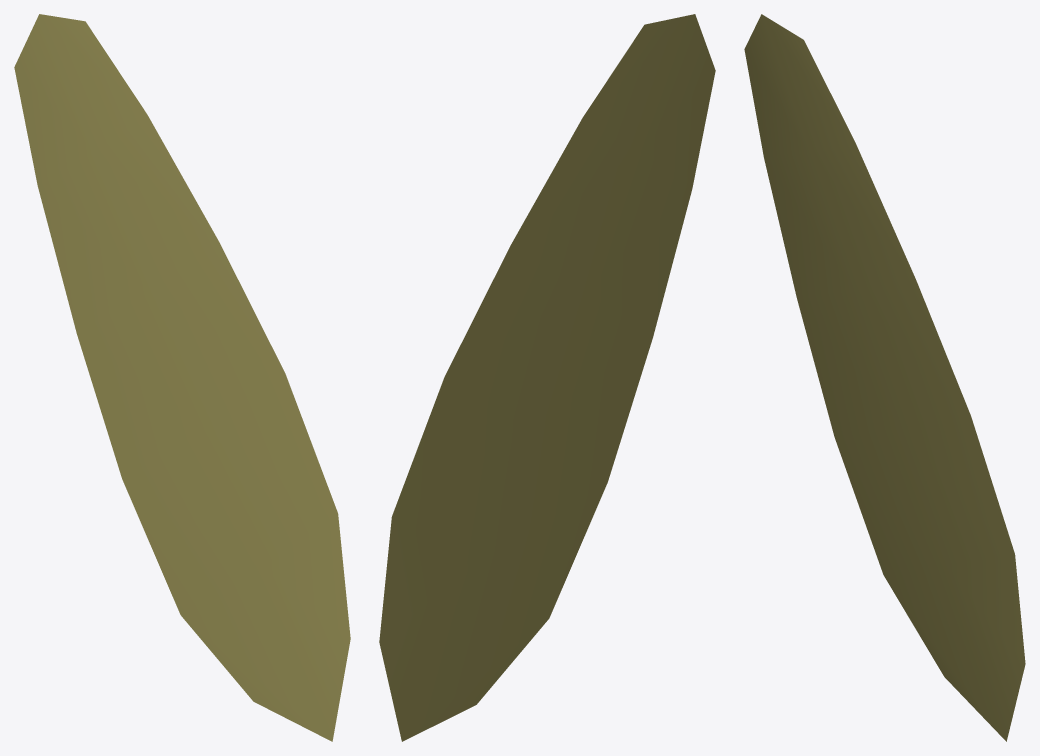
File: lovebird_feather_flight_primary_010.001.obj
The picture shows the model from 3 angles, left to right: view 1: azimuth 30°, elevation 25°; view 2: azimuth 150°, elevation 25°; view 3: azimuth 330°, elevation 25°; orthographic projection. The views are drawn at different scales.
Parts seen in each view (by area): view 1: feather_flight_primary_010.001; view 2: feather_flight_primary_010.001; view 3: feather_flight_primary_010.001.
Boxes of the visible parts, x1,y1,x2,y2 form: feather_flight_primary_010.001: (14,14,350,741); feather_flight_primary_010.001: (379,14,715,741); feather_flight_primary_010.001: (744,14,1025,741).
Size of the model in its own units: 0.0138 by 0.0312 by 0.00016.
